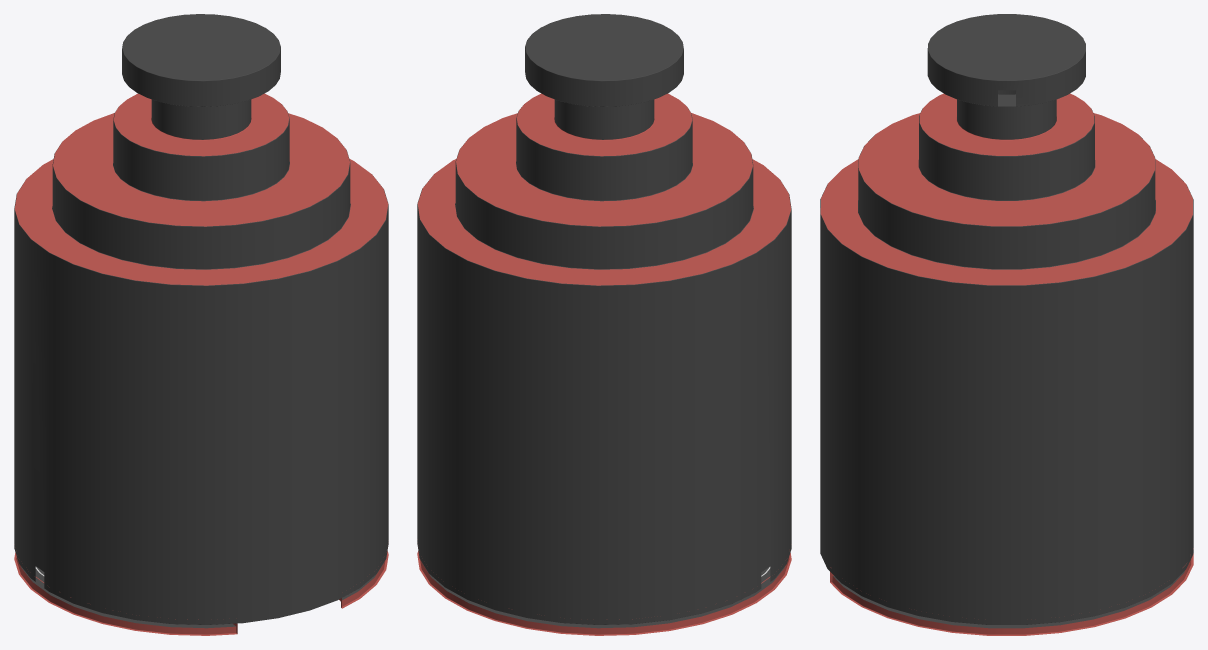
File: BattleRoom02.glb
3 views of the same model, side by side, from view 1: azimuth 30°, elevation 25°; view 2: azimuth 150°, elevation 25°; view 3: azimuth 270°, elevation 25° (orthographic).
Visible parts, largest first — view 1: Room, Detail2, Storey; view 2: Room, Detail2, Storey; view 3: Room, Detail2, Storey.
Boxes of the visible parts, x1=… form: Room: x1=14, y1=14, x2=388, y2=624; Detail2: x1=14, y1=551, x2=388, y2=635; Storey: x1=21, y1=563, x2=383, y2=628; Room: x1=417, y1=14, x2=791, y2=624; Detail2: x1=417, y1=551, x2=791, y2=635; Storey: x1=422, y1=563, x2=784, y2=628; Room: x1=820, y1=14, x2=1193, y2=624; Detail2: x1=830, y1=548, x2=1193, y2=635; Storey: x1=833, y1=571, x2=1184, y2=628.
Bounding box in the file's own units: 83.69 × 126 × 83.68.
